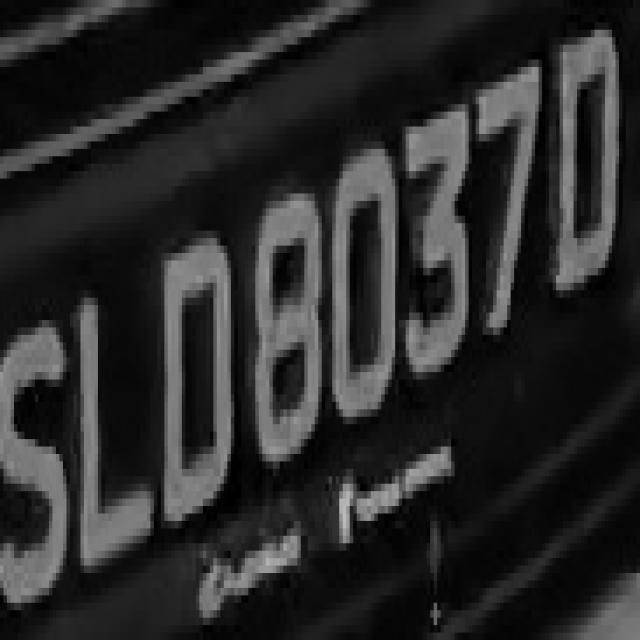0: (318, 141, 406, 454)
3: (388, 82, 476, 379)
7: (465, 45, 542, 372)
8: (238, 171, 332, 469)
D: (154, 208, 238, 536), (549, 15, 626, 305)
L: (66, 260, 154, 588)
S: (4, 282, 66, 618)
